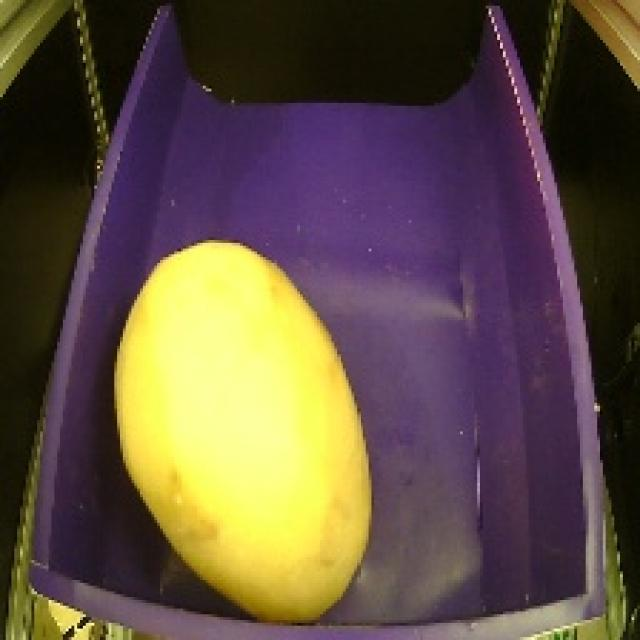full_potato: (96, 228, 382, 630)
